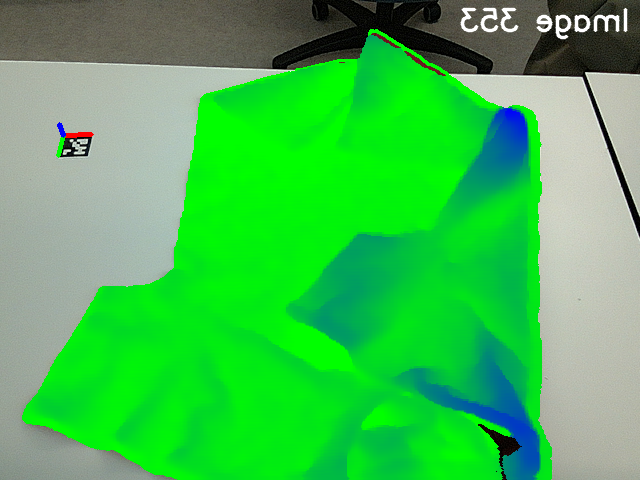V: (274, 124, 323, 156), (282, 289, 323, 327), (333, 128, 371, 156)
